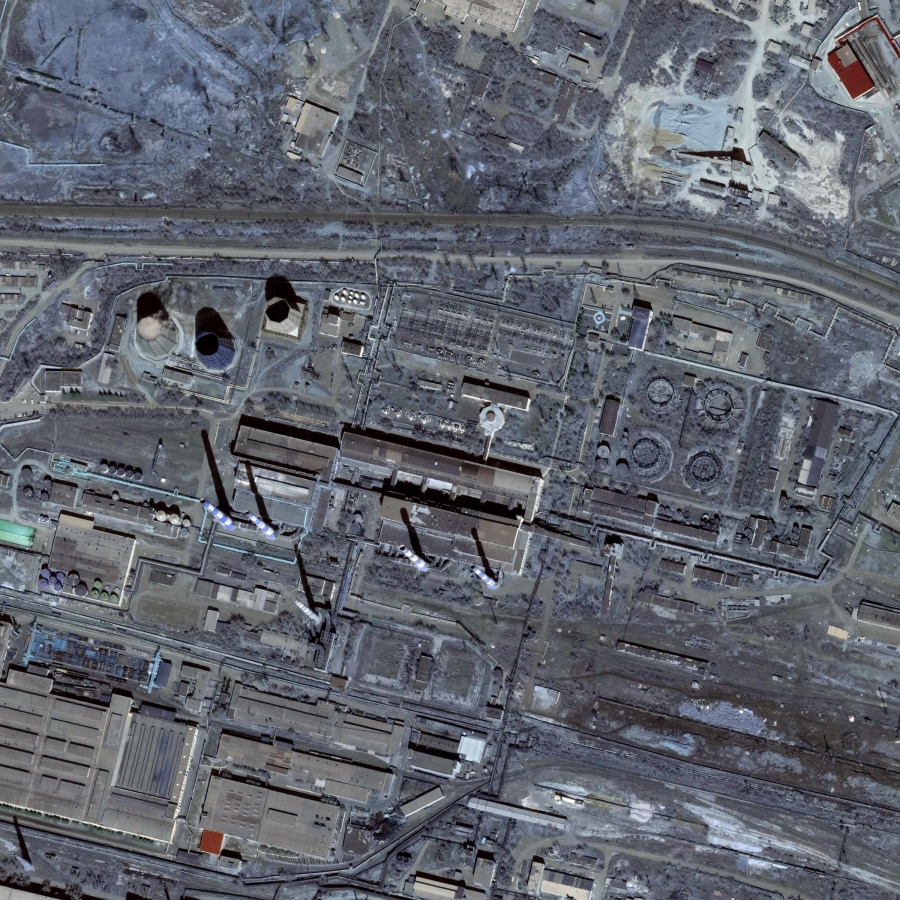PowerPlant: (123, 258, 537, 632)
